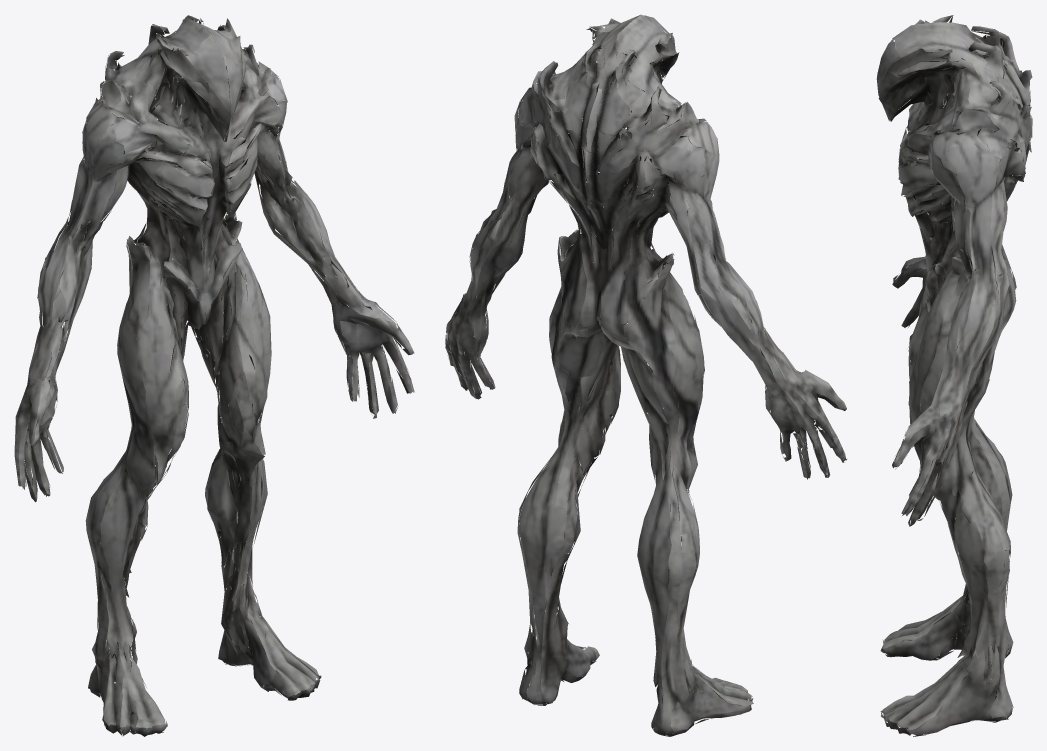
The model's file is cha_hollow.glb.
3 views of the same model, side by side, from view 1: azimuth 30°, elevation 25°; view 2: azimuth 150°, elevation 25°; view 3: azimuth 270°, elevation 25° (orthographic).
Visible parts, largest first — view 1: geometry_0; view 2: geometry_0; view 3: geometry_0.
Part boxes in pixels (x1,y1,x2,y2): geometry_0: [14, 15, 414, 736]; geometry_0: [445, 14, 847, 736]; geometry_0: [876, 15, 1032, 736].
Bounding box in the file's own units: 1.29 × 2.1 × 0.4469.
Materials: 1 (1 with a texture image).
